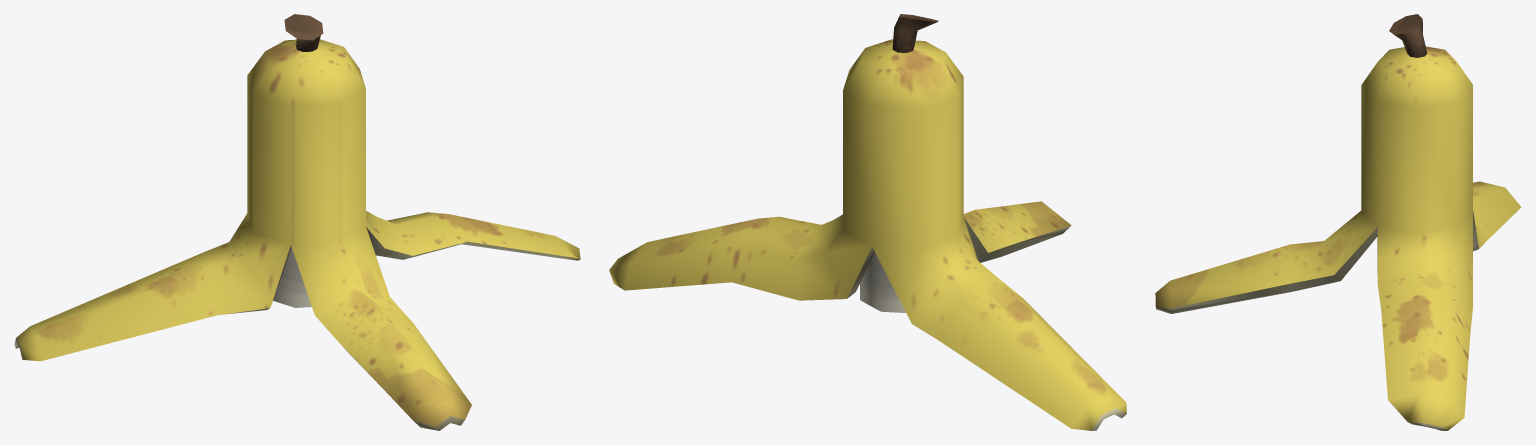
The model's file is Banana.fbx.
The picture shows the model from 3 angles, left to right: view 1: azimuth 30°, elevation 25°; view 2: azimuth 150°, elevation 25°; view 3: azimuth 270°, elevation 25°; orthographic projection. The views are drawn at different scales.
Parts seen in each view (by area): view 1: Banana; view 2: Banana; view 3: Banana.
Boxes of the visible parts, x1=… form: Banana: x1=14, y1=14, x2=580, y2=430; Banana: x1=609, y1=14, x2=1126, y2=430; Banana: x1=1155, y1=14, x2=1521, y2=430.
Bounding box in the file's own units: 35.46 × 20.39 × 23.4.
